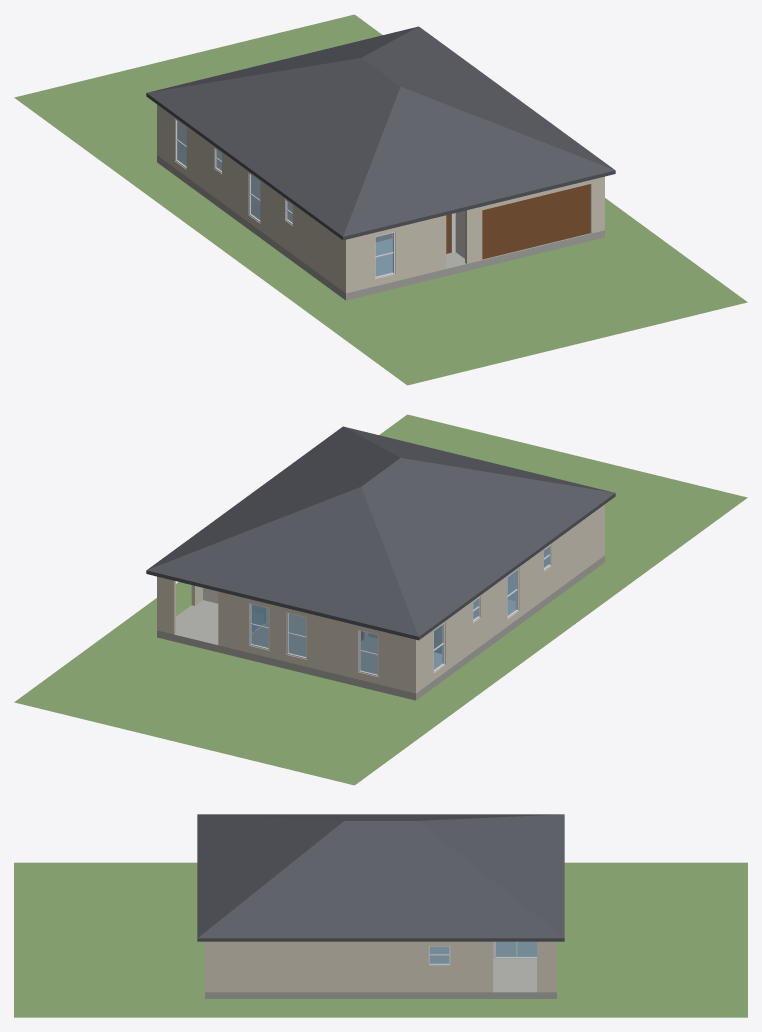
3 renders of one model, top to bottom at view 1: azimuth 30°, elevation 25°; view 2: azimuth 150°, elevation 25°; view 3: azimuth 270°, elevation 25°, orthographic. The views are drawn at different scales.
Parts seen in each view (by area): view 1: SITE, ROOF, ext-left, ext-front, GD, SLAB-L1, N01; view 2: SITE, ROOF, ext-back, ext-left, SLAB-L1, N07, N08, N05; view 3: SITE, ROOF, ext-right, SLAB-L1, D13, N09.
Part boxes in pixels (<box>): SITE: <box>14,14,747,385</box>; ROOF: <box>146,26,615,240</box>; ext-left: <box>159,106,343,291</box>; ext-front: <box>344,176,604,293</box>; GD: <box>482,184,590,259</box>; SLAB-L1: <box>157,150,604,300</box>; N01: <box>375,233,393,276</box>; SITE: <box>14,414,747,785</box>; ROOF: <box>146,426,615,640</box>; ext-back: <box>157,576,417,693</box>; ext-left: <box>418,506,602,691</box>; SLAB-L1: <box>157,555,604,700</box>; N07: <box>288,613,306,657</box>; N08: <box>251,604,268,647</box>; N05: <box>360,631,377,674</box>; SITE: <box>14,862,747,1017</box>; ROOF: <box>197,814,564,941</box>; ext-right: <box>208,941,553,992</box>; SLAB-L1: <box>205,942,556,998</box>; D13: <box>496,941,536,957</box>; N09: <box>430,946,449,963</box>.
Bounding box in the file's own units: 15.24 × 5.46 × 30.48.
